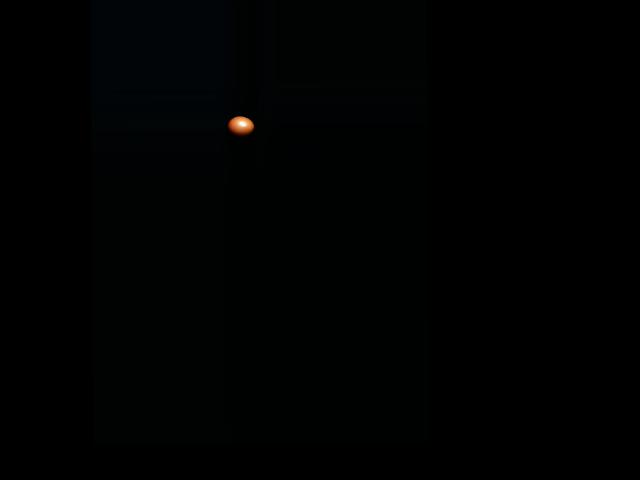egg: (226, 116, 254, 137)
